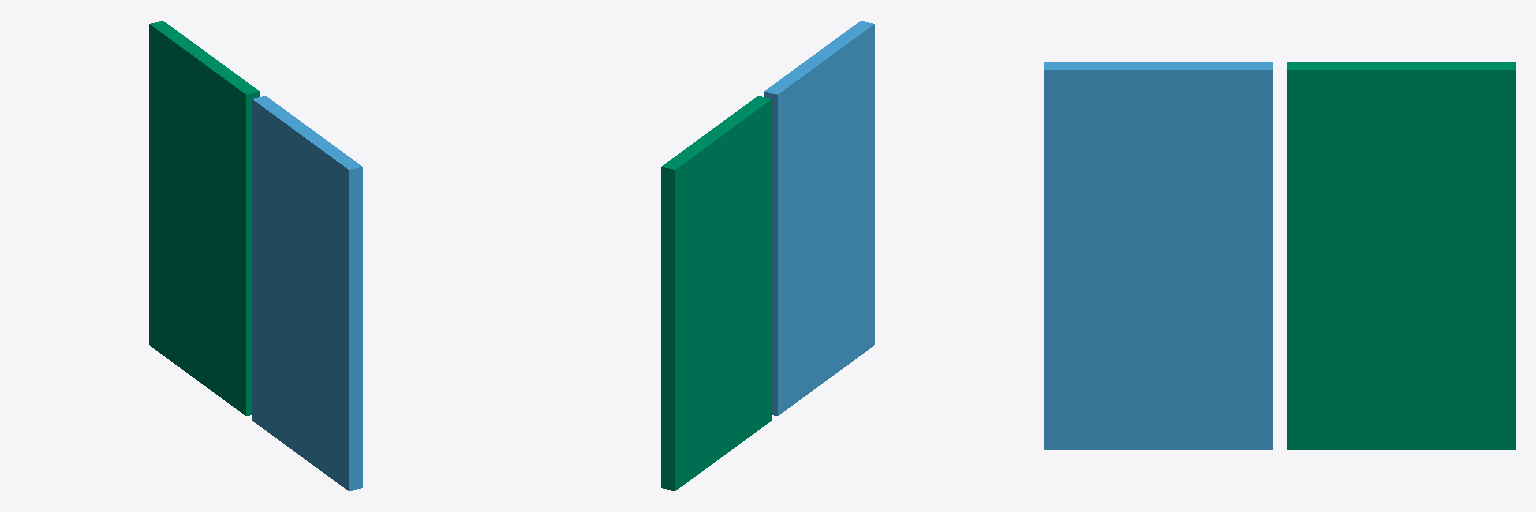
robot.urdf — unnamed:
<robot name="unnamed" version="1.0">
  <joint name="l_door_link_joint" type="revolute">
    <limit lower="-1.57000" upper="1.57000" effort="0.00000" velocity="0.00000"/>
    <origin rpy="0.00000 0.00000 0.00000" xyz="1.49683 -2.46089 0.55928"/>
    <parent link="TEMP_link"/>
    <child link="l_door_link"/>
    <axis xyz="0.00000 0.00000 1.00000"/>
  </joint>
  <joint name="r_door_link_joint" type="revolute">
    <limit lower="-1.57000" upper="1.57000" effort="0.00000" velocity="0.00000"/>
    <origin rpy="0.00000 0.00000 0.00000" xyz="1.49683 -0.91107 0.55928"/>
    <parent link="TEMP_link"/>
    <child link="r_door_link"/>
    <axis xyz="0.00000 0.00000 1.00000"/>
  </joint>
  <link name="TEMP_link">
  </link>
  <link name="l_door_link">
    <collision name="l_door_collision">
      <origin rpy="0.00000 0.00000 0.00000" xyz="0.00000 0.39887 0.00000"/>
      <geometry>
        <box size="0.06000 0.73700 1.34866"/>
      </geometry>
    </collision>
    <visual name="l_door">
      <material name="None"/>
      <origin rpy="0.00000 0.00000 0.00000" xyz="0.00000 0.39887 0.00000"/>
      <geometry>
        <box size="0.06000 0.73700 1.34866"/>
      </geometry>
    </visual>
  </link>
  <link name="r_door_link">
    <collision name="r_door_collision">
      <origin rpy="0.00000 0.00000 0.00000" xyz="0.00000 -0.37000 0.00000"/>
      <geometry>
        <box size="0.06000 0.73700 1.34866"/>
      </geometry>
    </collision>
    <visual name="r_door">
      <material name="None"/>
      <origin rpy="0.00000 0.00000 0.00000" xyz="0.00000 -0.37000 0.00000"/>
      <geometry>
        <box size="0.06000 0.73700 1.34866"/>
      </geometry>
    </visual>
  </link>
</robot>

--- Render facts (derived) ---
Views: 3 orthographic renders of the robot side by side, from view 1: azimuth 30°, elevation 25°; view 2: azimuth 150°, elevation 25°; view 3: azimuth 270°, elevation 25°.
Robot: unnamed — 3 links, 2 joints (2 revolute); root link TEMP_link; default pose: all joints at 0.
Links seen in each view (by area): view 1: l_door_link, r_door_link; view 2: r_door_link, l_door_link; view 3: l_door_link, r_door_link.
Boxes of the visible links, x1,y1,x2,y2 form: l_door_link: [252, 96, 362, 490]; r_door_link: [149, 21, 259, 415]; r_door_link: [661, 96, 771, 490]; l_door_link: [764, 21, 874, 415]; l_door_link: [1044, 62, 1272, 449]; r_door_link: [1287, 62, 1515, 449].
Bounding box of the posed robot: 0.06 × 1.52 × 1.35 m (x, y, z).
Geometry: primitives only (box / cylinder / sphere), no mesh files.